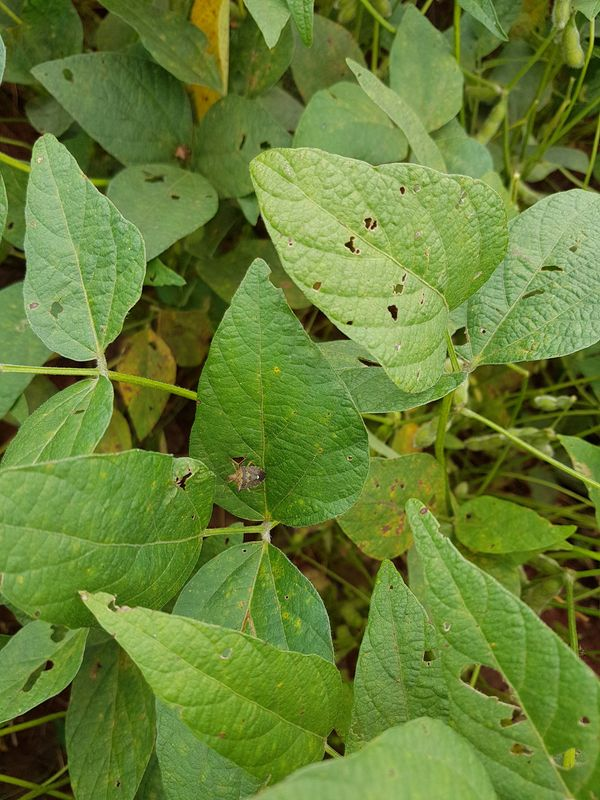Euschistus_heros_adulto: (222, 456, 273, 501), (168, 139, 197, 168)
